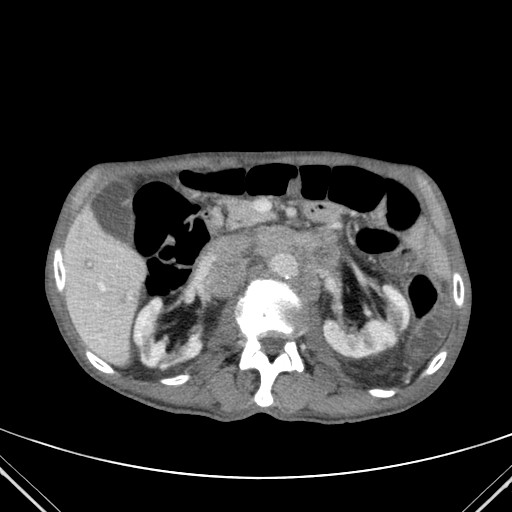vesicula: (87, 177, 141, 248)
